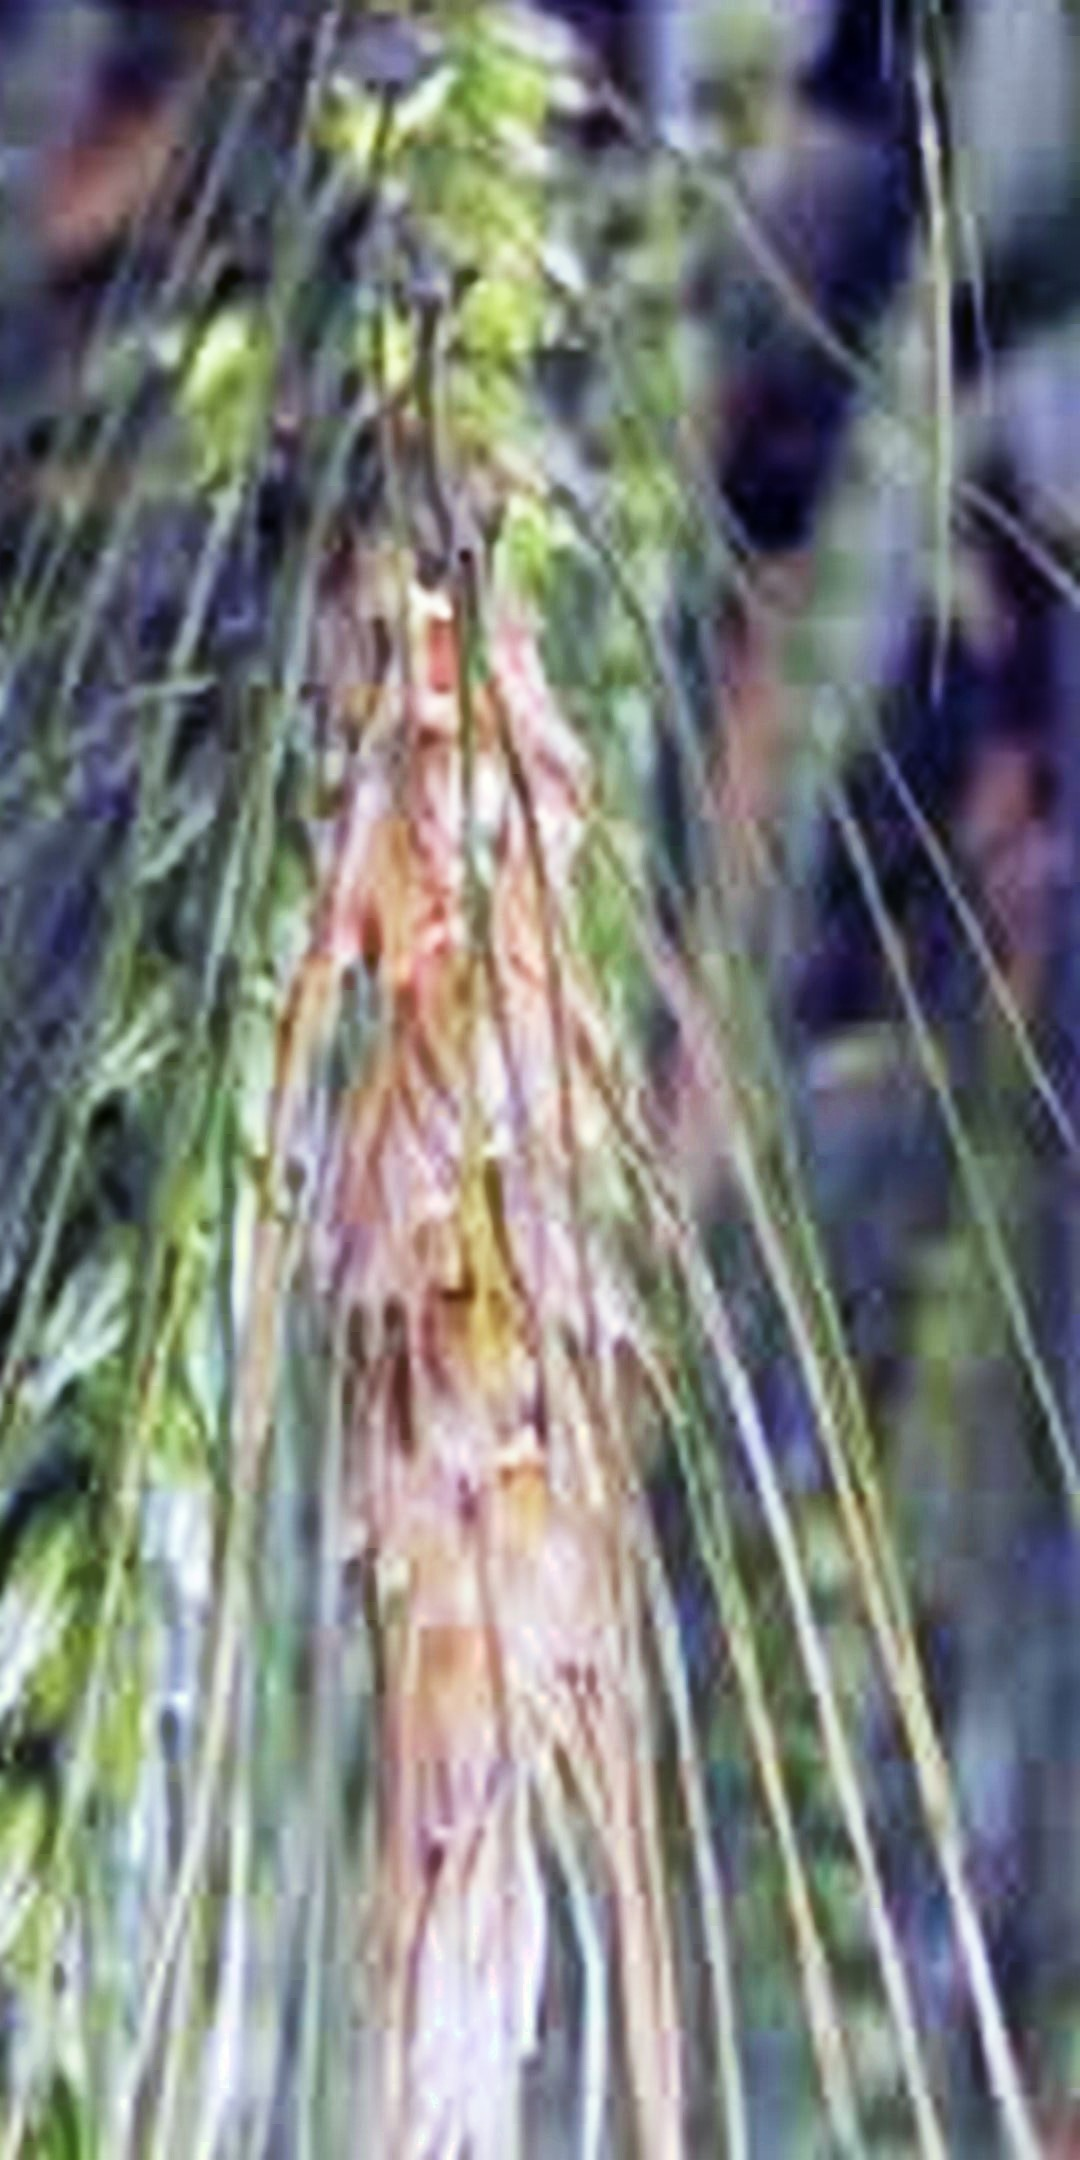Wheat scab: (282, 83, 667, 1891)
